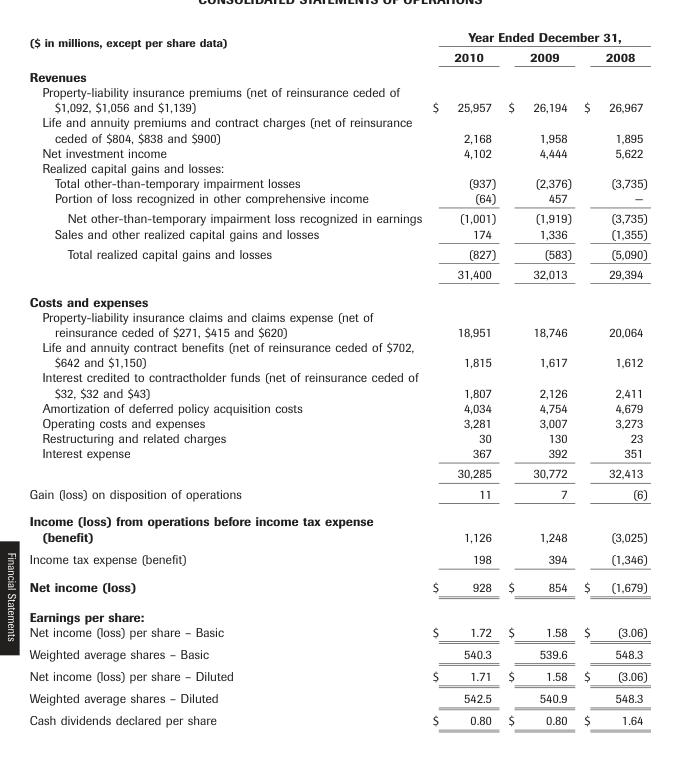table: (28, 28, 646, 727)
table column: (28, 28, 426, 727), (501, 28, 577, 727), (426, 28, 501, 727), (577, 28, 646, 727)
table column header: (28, 28, 646, 66)
table projected row header: (28, 601, 646, 624), (28, 287, 646, 308), (28, 66, 646, 84), (28, 159, 646, 175)
table row: (28, 507, 646, 547), (28, 308, 646, 339), (28, 84, 646, 114), (28, 114, 646, 144), (28, 339, 646, 369), (28, 369, 646, 399), (28, 572, 646, 601), (28, 547, 646, 572), (28, 263, 646, 287), (28, 483, 646, 507), (28, 601, 646, 624), (28, 642, 646, 664), (28, 664, 646, 686), (28, 686, 646, 708), (28, 287, 646, 308), (28, 46, 646, 66), (28, 243, 646, 263), (28, 463, 646, 483), (28, 708, 646, 727), (28, 28, 646, 46), (28, 66, 646, 84), (28, 207, 646, 225), (28, 225, 646, 243), (28, 445, 646, 463), (28, 624, 646, 642), (28, 190, 646, 207), (28, 159, 646, 175), (28, 399, 646, 415), (28, 144, 646, 159), (28, 175, 646, 190), (28, 415, 646, 430), (28, 430, 646, 445)
table spanning cell: (28, 28, 426, 66), (426, 28, 646, 46)
